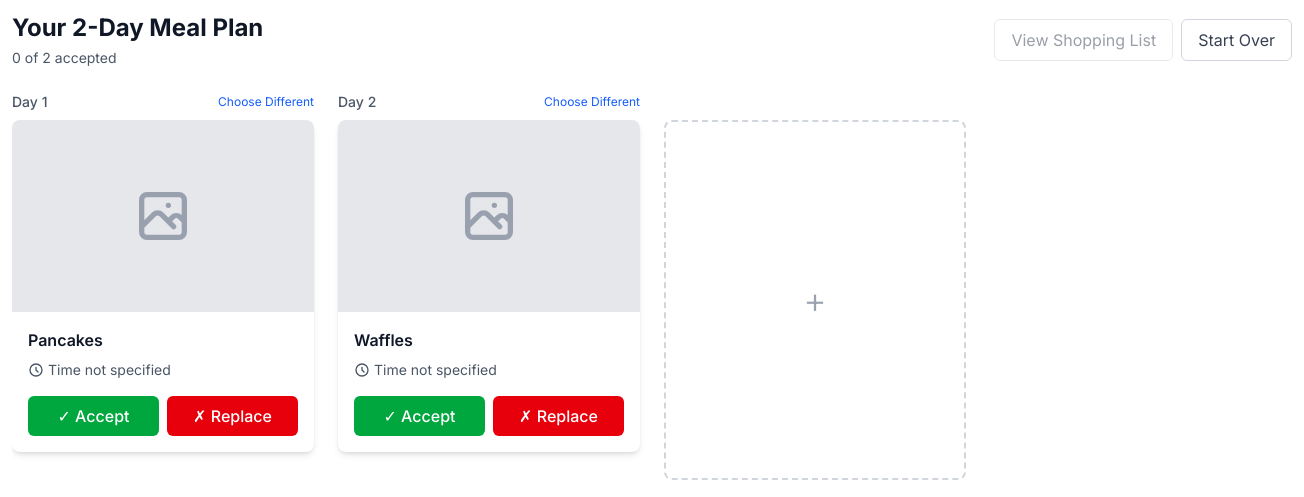
Test: MealPlanView trailing add-recipe tile › clicking the tile opens the recipe selector, and selecting a recipe adds it as accepted immediately
Click the button named "add a recipe": x=815, y=300 [664, 120, 966, 480]
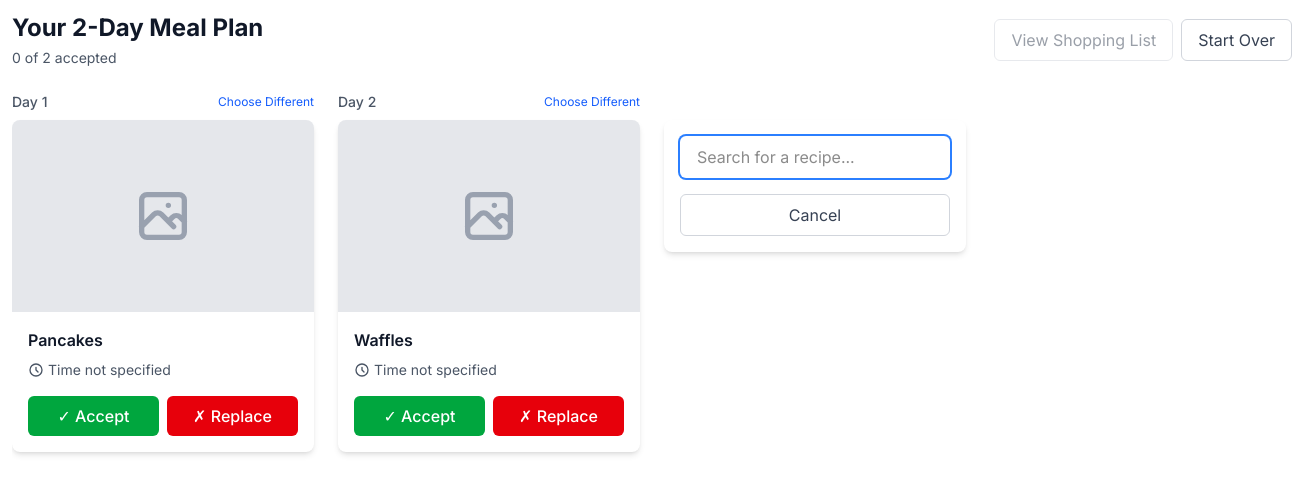
In the field with placeholder "Search for a recipe...": x=815, y=157 [680, 136, 950, 178], type "French"
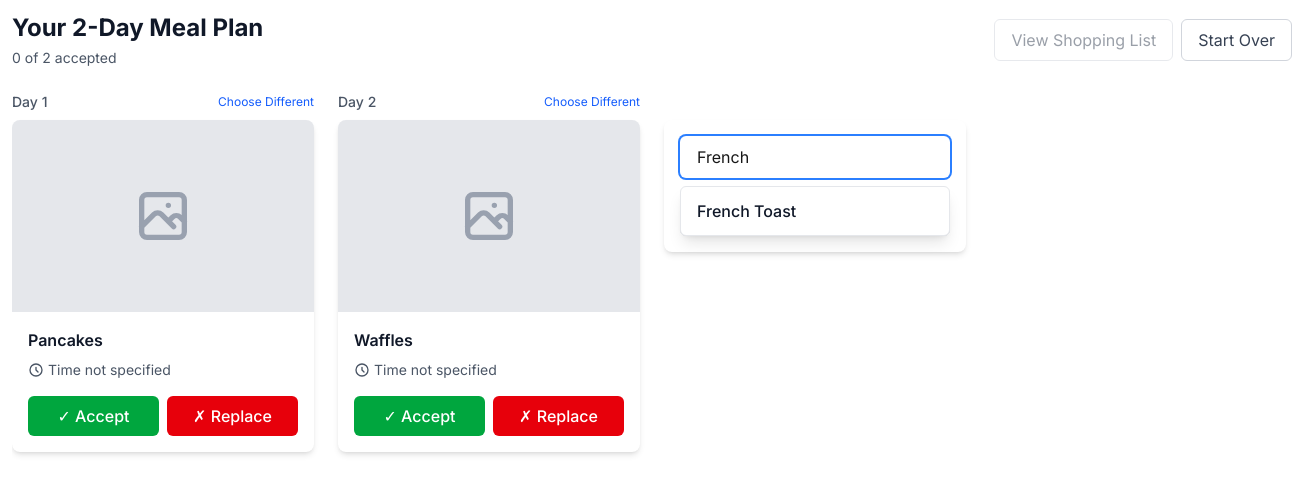
expect the text "French Toast" is shown: met, box [697, 201, 796, 221]
Click the button "French Toast": x=747, y=211 [681, 187, 949, 235]
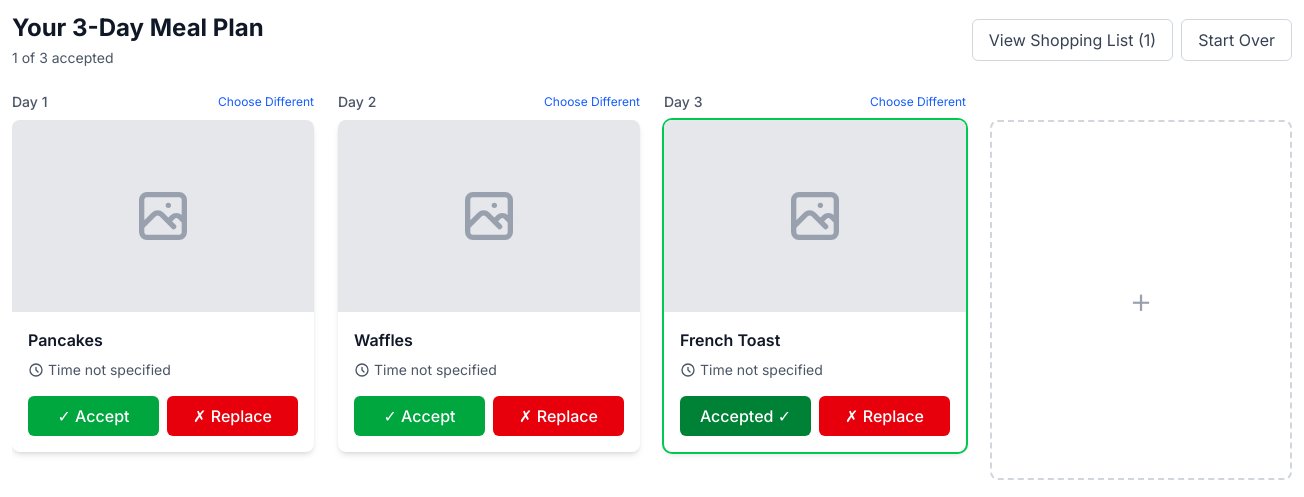
expect the text "Accepted ✓" is shown once: met, box [680, 396, 811, 436]
expect the heading "Your 3-Day Meal Plan" is shown: met, box [12, 12, 264, 44]
expect the text "1 of 3 accepted" is shown: met, box [12, 49, 114, 66]
